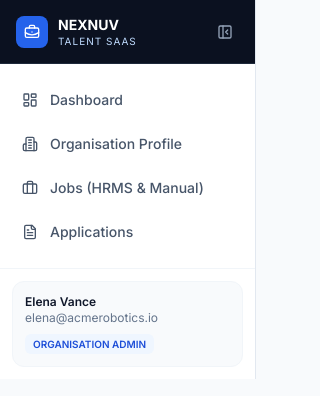
Scenario: NEXNUV Recruitment Frontend Components & Workflows › renders DashboardSidebar with permission items and supports desktop collapse toggle
Expected: the text "Jobs (HRMS & Manual)" is shown, [50,178,204,198]
Expected: the text "Applications" is shown, [50,222,133,242]
Click the button named "Collapse sidebar": {"x": 225, "y": 32} [211,18,239,46]
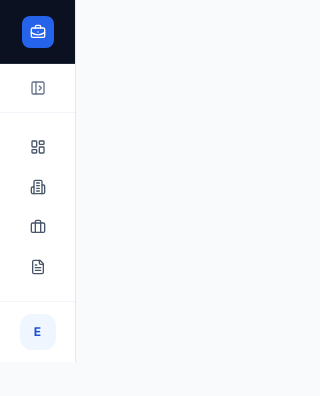
Now the button named "Expand sidebar" is shown, box [22,72,54,104]
Now the text "Jobs (HRMS & Manual)" is gone
